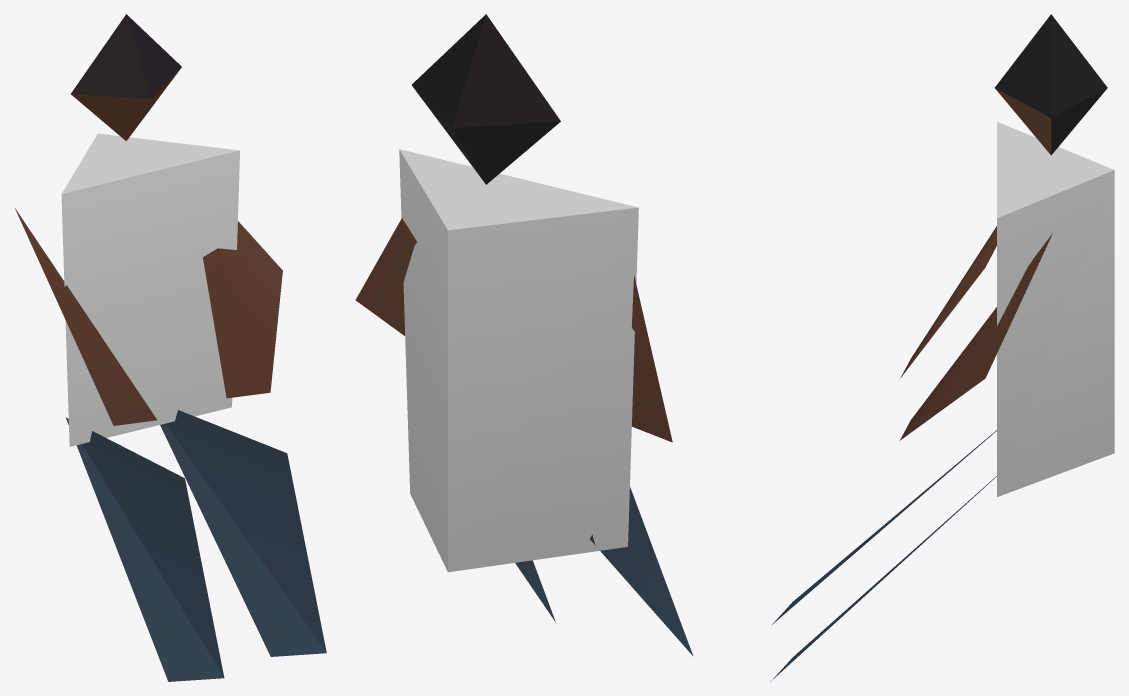
Rendered from fan-04.glb.
3 renders of one model, left to right at view 1: azimuth 30°, elevation 25°; view 2: azimuth 150°, elevation 25°; view 3: azimuth 270°, elevation 25°, orthographic. The views are drawn at different scales.
Visible parts, largest first — view 1: fan-04; view 2: fan-04; view 3: fan-04.
Part boxes in pixels (left/top/right/bottom): fan-04: left=15, top=14, right=326, bottom=681; fan-04: left=355, top=14, right=693, bottom=656; fan-04: left=770, top=14, right=1114, bottom=681.
Size of the model in its own units: 0.675 by 1.53 by 0.76.
